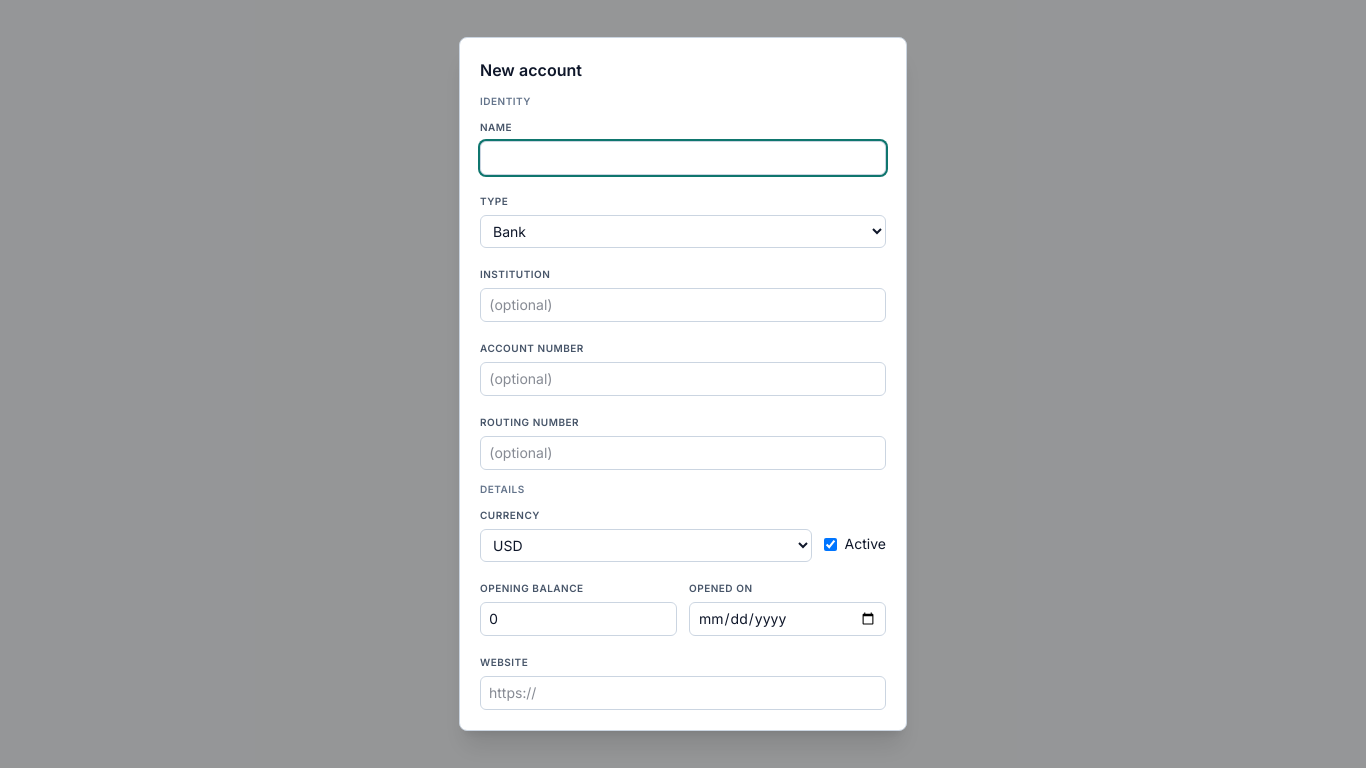
Test case: AccountEditorDialog › loan: shows the server-computed payment preview
Select "Loan" in the dropdown labelled "Type" at (683,232), box [480,215,886,248]
(page scrolled)
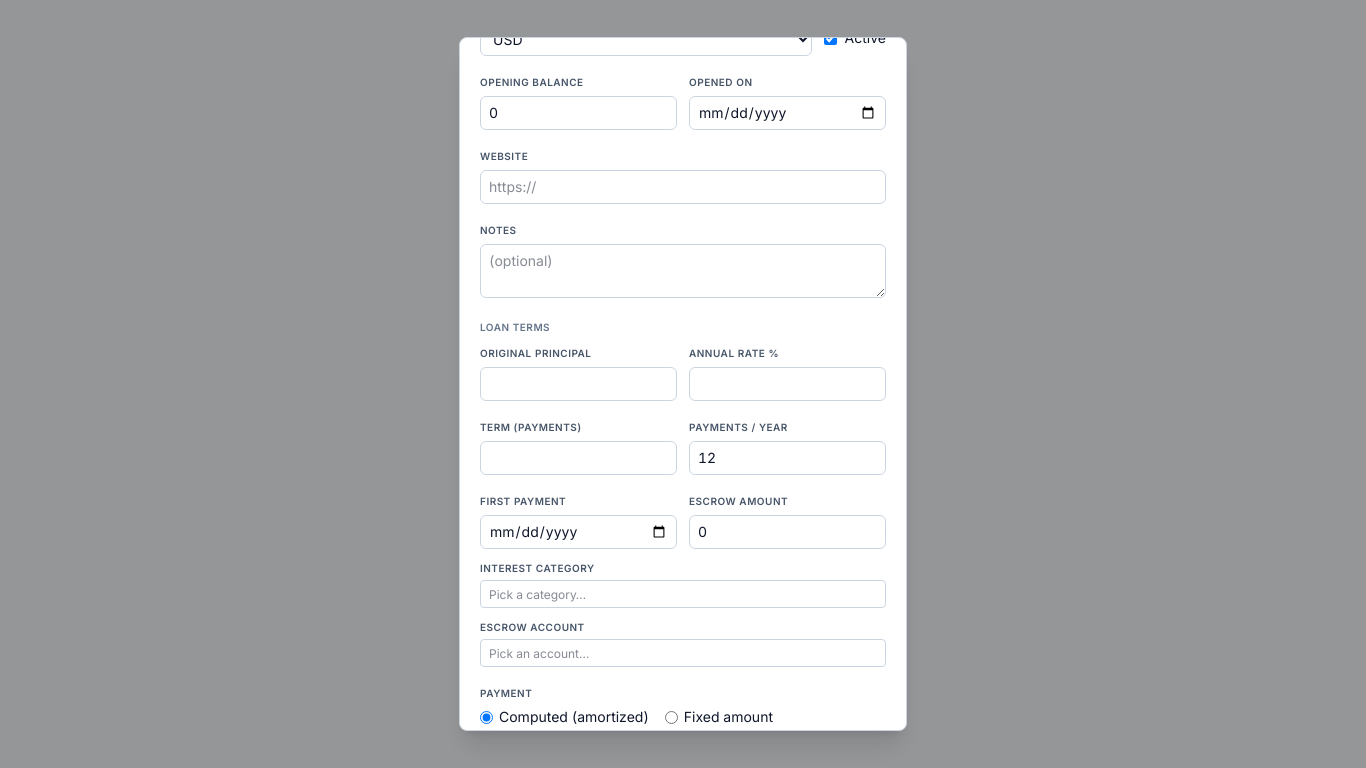
Type "500000" into the field labelled "Original principal".
click(578, 384); type("500000")  # box [480,367,677,401]
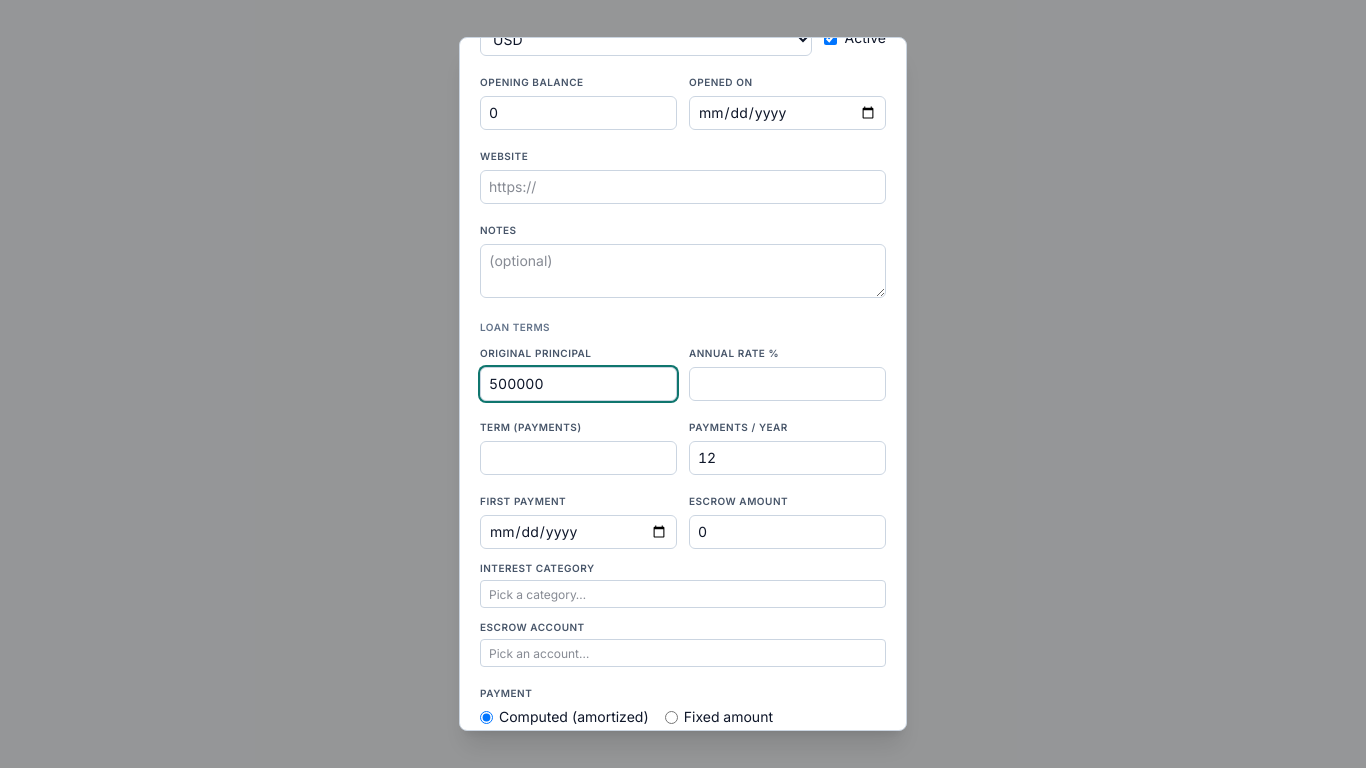
Type "4.00" into the field labelled "Annual rate %".
click(788, 384); type("4.00")  # box [689,367,886,401]
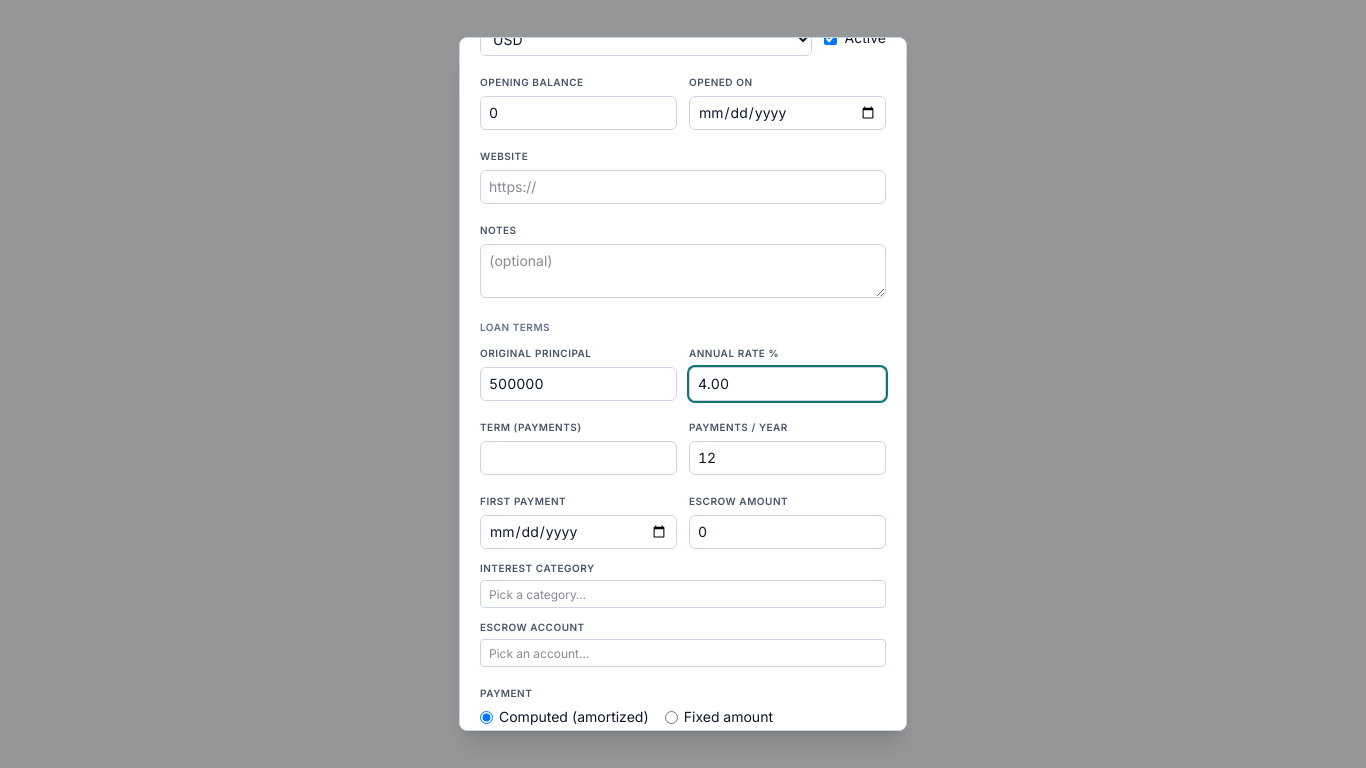
Type "360" into the field labelled "Term (payments)".
click(578, 458); type("360")  # box [480,441,677,475]
(page scrolled)
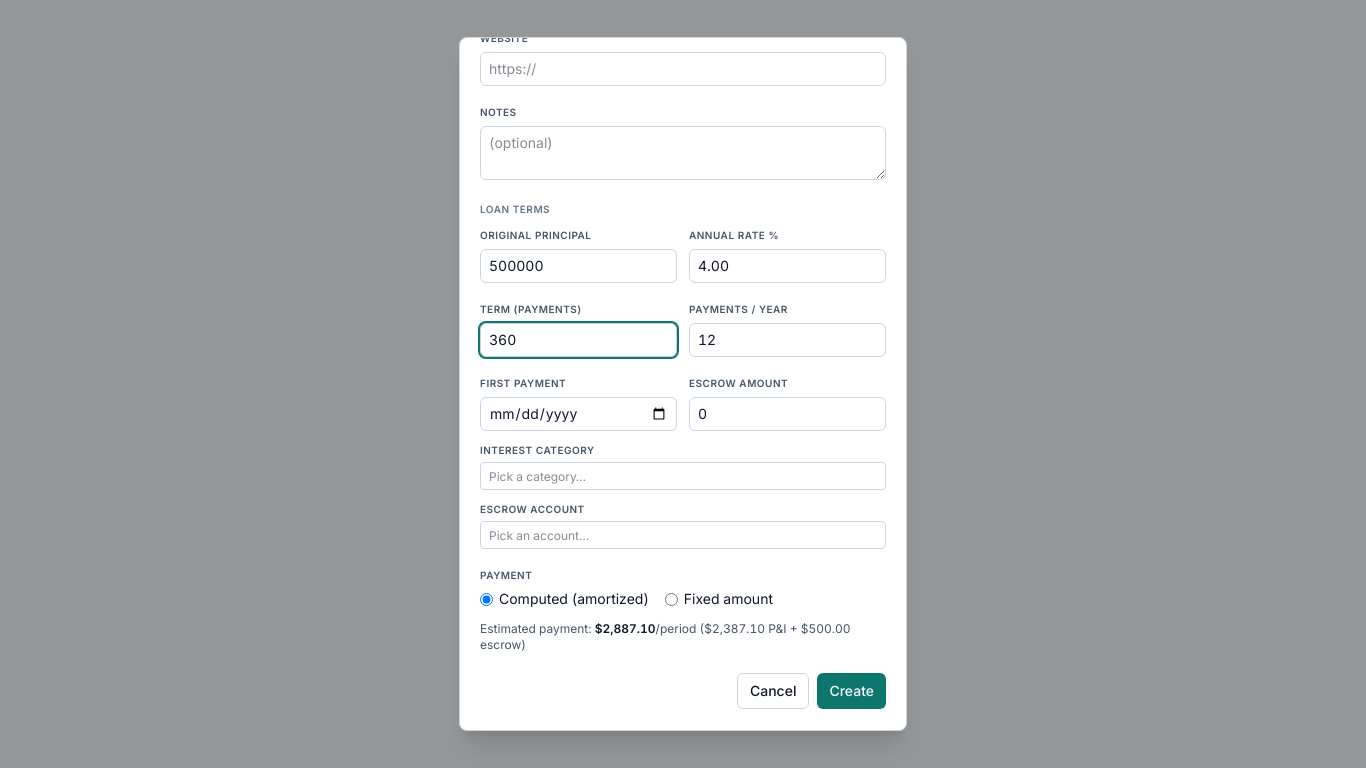
Expected: the text "Estimated payment" is shown, [480,621,592,636]
